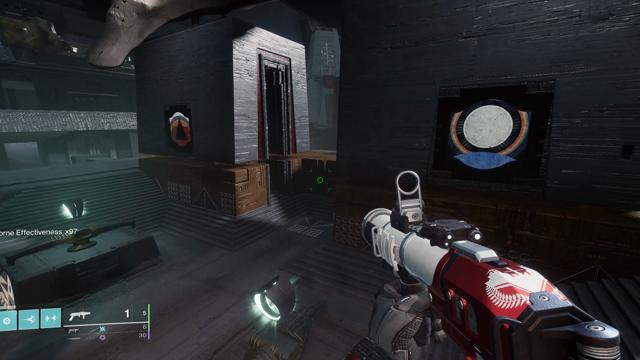pyramid: (168, 112, 190, 147)
stop: (324, 76, 334, 88)
traveler: (446, 99, 534, 171)
